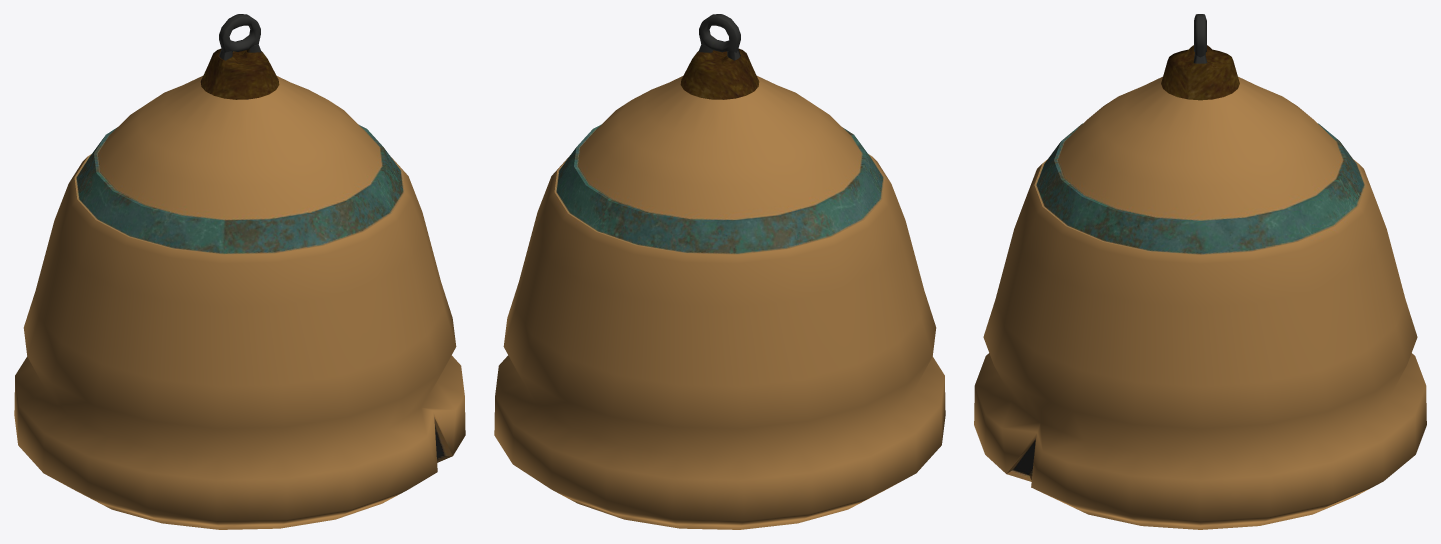
Rendered from cracked_bell.glb.
The picture shows the model from 3 angles, left to right: view 1: azimuth 30°, elevation 25°; view 2: azimuth 150°, elevation 25°; view 3: azimuth 270°, elevation 25°; orthographic projection.
Visible parts, largest first — view 1: bell_lp1; view 2: bell_lp1; view 3: bell_lp1.
Part boxes in pixels (x1,y1,x2,y2): bell_lp1: [14, 14, 465, 529]; bell_lp1: [494, 14, 945, 529]; bell_lp1: [974, 14, 1426, 529].
Size of the model in its own units: 1.63 by 2 by 1.63.
Materials: 1 (1 with a texture image).
